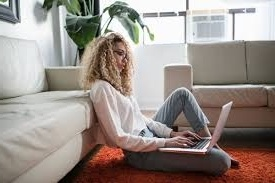not_fallen: (78, 31, 236, 175)
